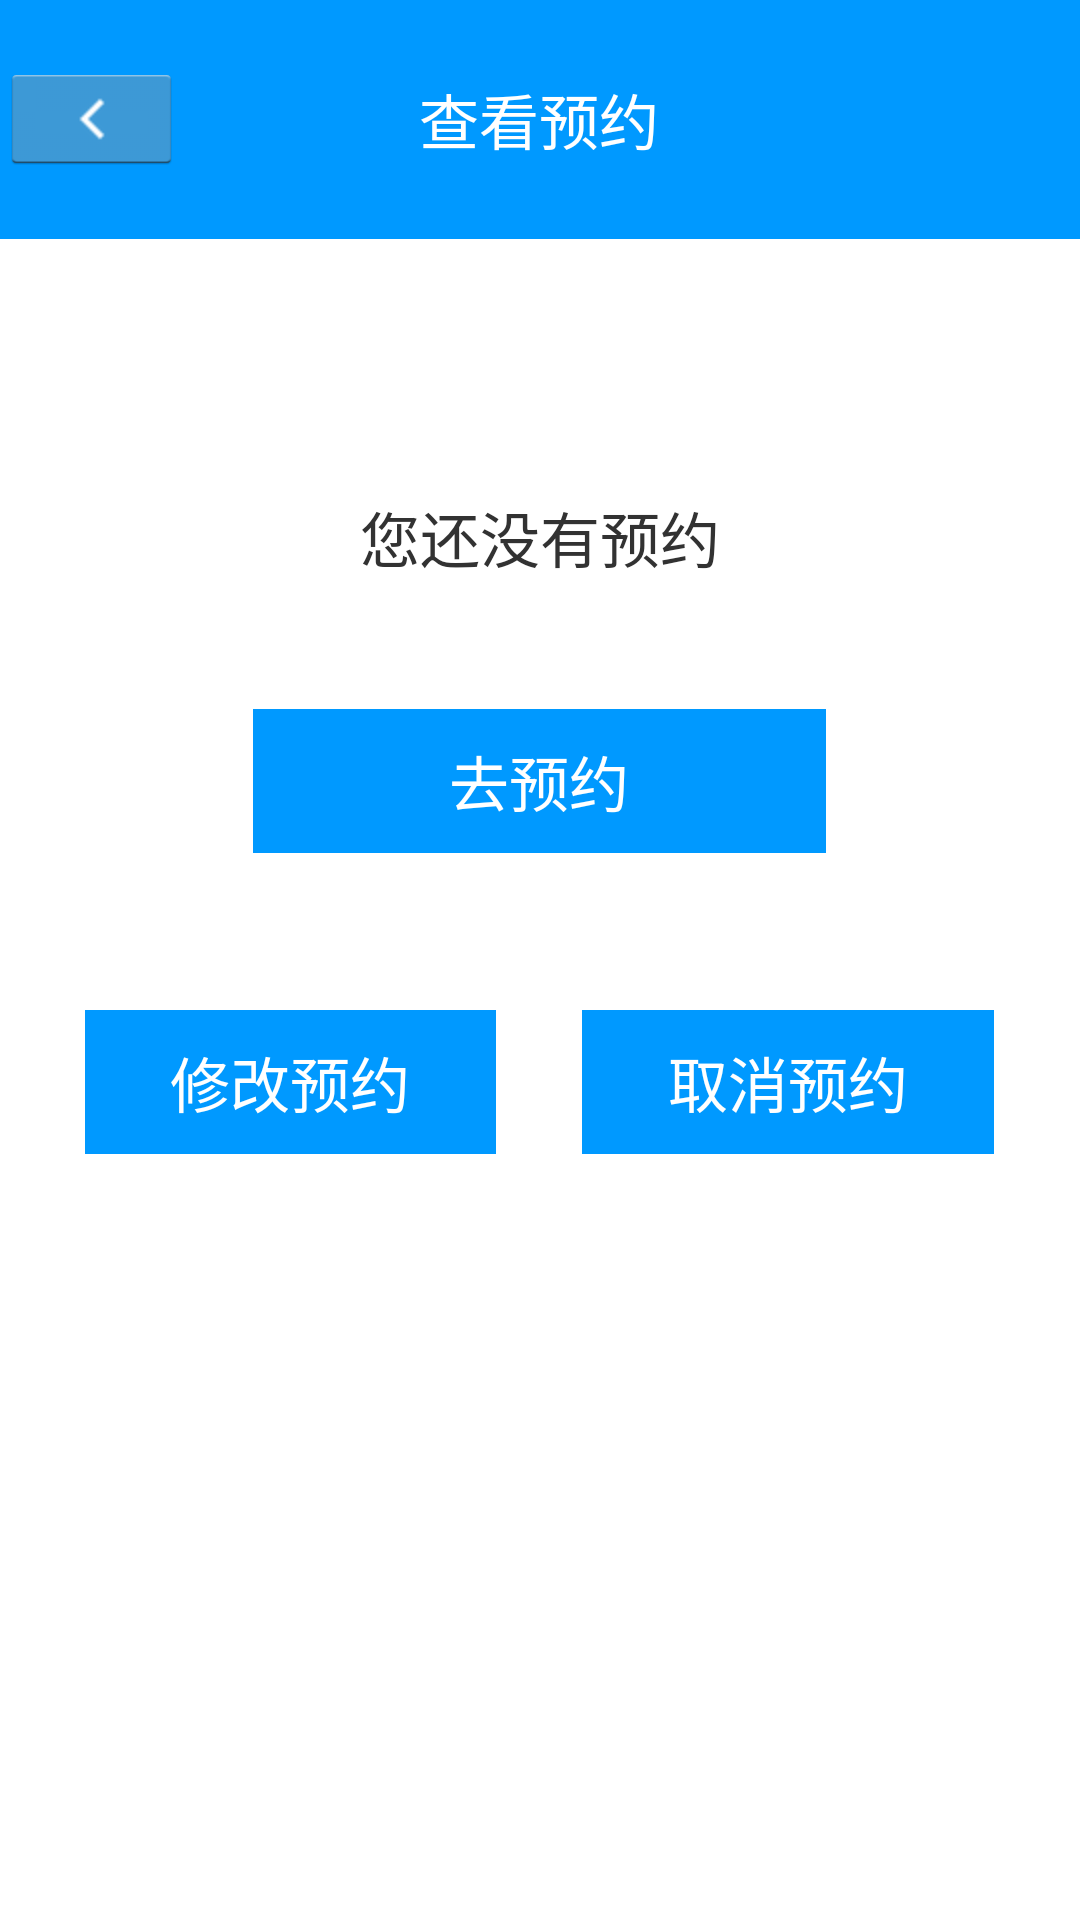

Point at icon controls on the screen. Image size 1080×1920, points as (x=x, y=y).
back: (x=91, y=119)
